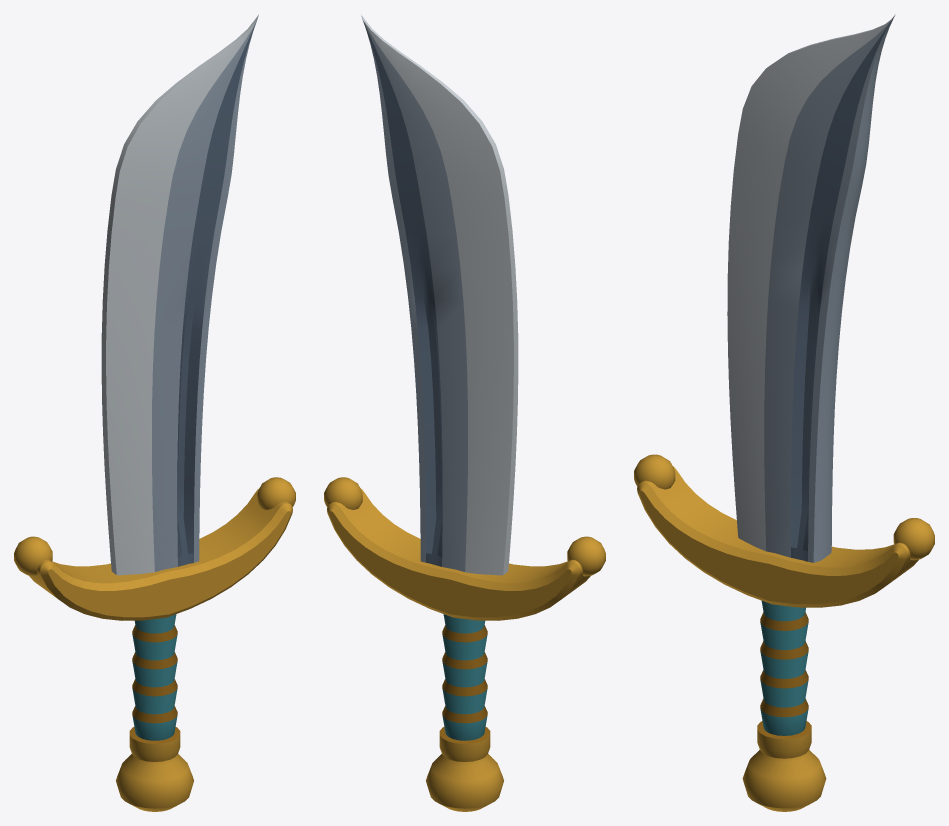
Rendered from Scimitar_12.glb.
The picture shows the model from 3 angles, left to right: view 1: azimuth 30°, elevation 25°; view 2: azimuth 150°, elevation 25°; view 3: azimuth 330°, elevation 25°; orthographic projection. The views are drawn at different scales.
Visible parts, largest first — view 1: Scimitar_12; view 2: Scimitar_12; view 3: Scimitar_12.
Part boxes in pixels (<box>): Scimitar_12: <box>14,14,295,811</box>; Scimitar_12: <box>324,14,605,811</box>; Scimitar_12: <box>634,14,934,811</box>.
Bounding box in the file's own units: 2.41 × 6.37 × 0.592.
